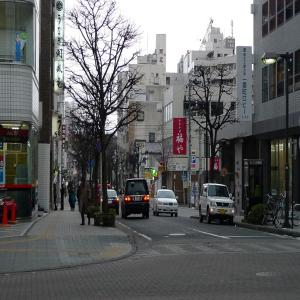Vehicle-registration-plate: (219, 210, 226, 216), (136, 197, 142, 201), (167, 209, 172, 212), (110, 202, 114, 204)
